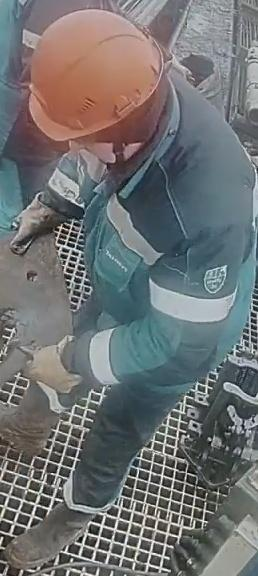gloves: (9, 183, 77, 259), (21, 334, 83, 394)
helmet: (27, 8, 169, 143)
vest: (74, 103, 258, 390)
